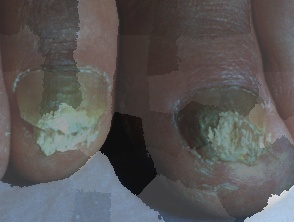Nail_psoriasis: (156, 65, 294, 216), (0, 36, 124, 173)
